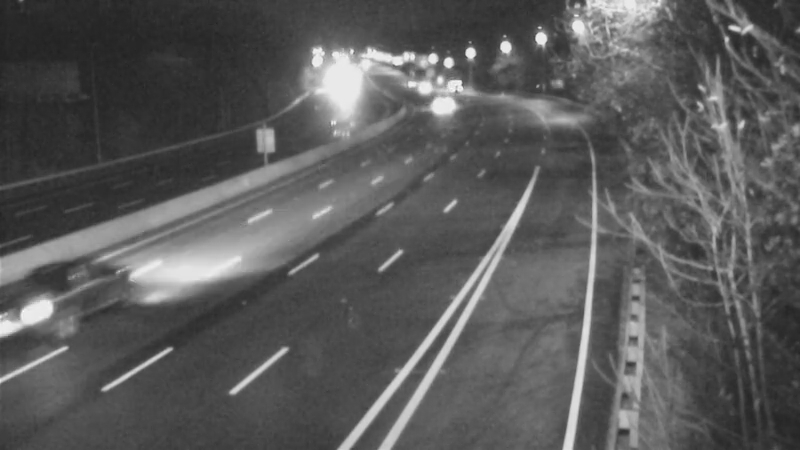vehicle: (35, 255, 115, 335), (428, 62, 478, 112), (398, 61, 448, 111), (421, 81, 471, 131), (315, 68, 365, 118)
